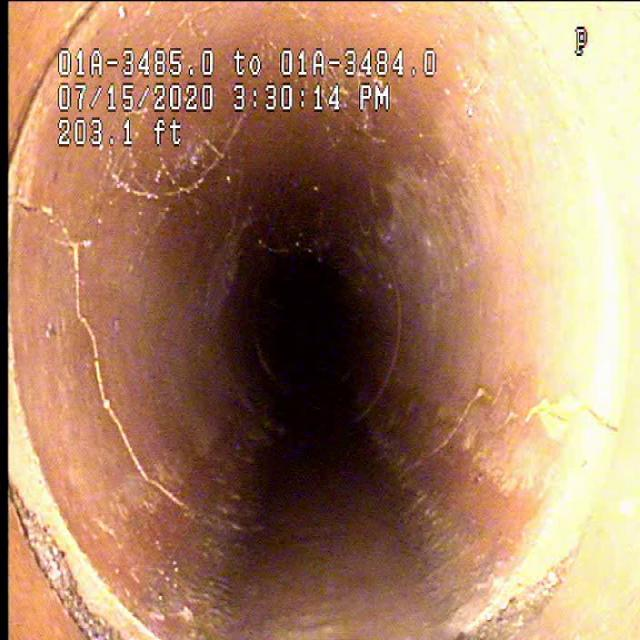Crack: (39, 189, 143, 492)
